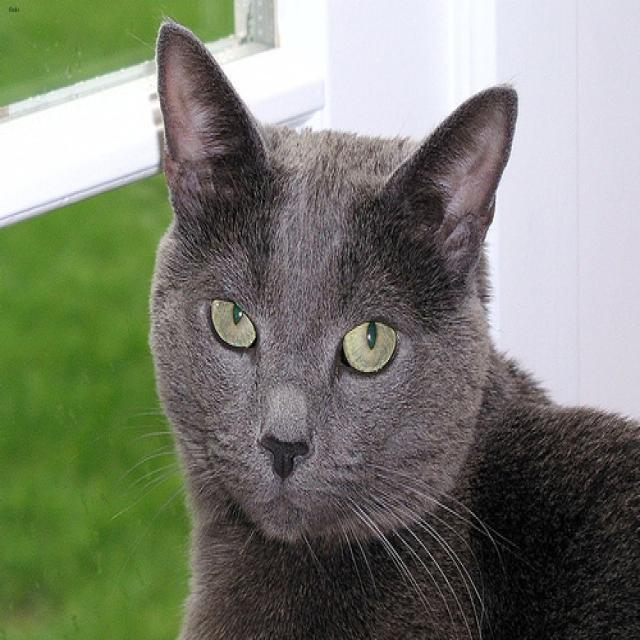Russian_Blue: (154, 19, 517, 536)
